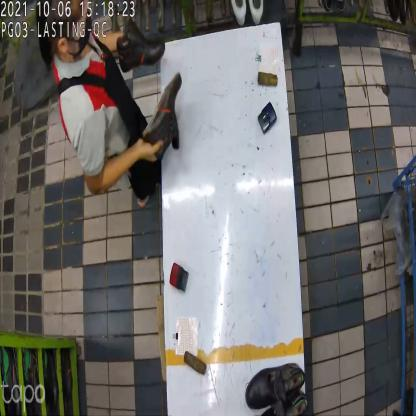shoes: (116, 19, 187, 157), (244, 362, 314, 416)
stamp: (170, 261, 191, 295), (258, 101, 276, 136)
